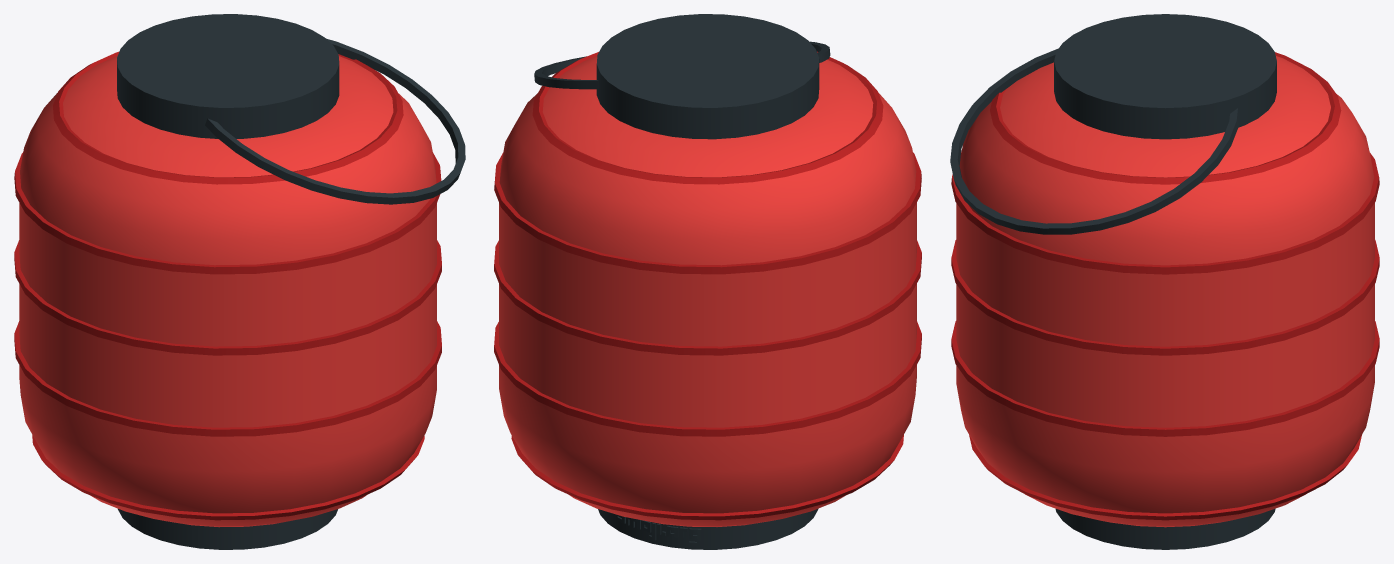
File: red_paper_lantern.fbx
The picture shows the model from 3 angles, left to right: view 1: azimuth 30°, elevation 25°; view 2: azimuth 150°, elevation 25°; view 3: azimuth 270°, elevation 25°; orthographic projection.
Parts seen in each view (by area): view 1: Cylinder.500; view 2: Cylinder.500; view 3: Cylinder.500.
Part boxes in pixels (bbox=[...]): Cylinder.500: bbox=[14, 14, 465, 549]; Cylinder.500: bbox=[494, 14, 921, 549]; Cylinder.500: bbox=[950, 14, 1379, 549].
Bounding box in the file's own units: 185 × 210 × 185.
Materials: 1 (1 with a texture image).
